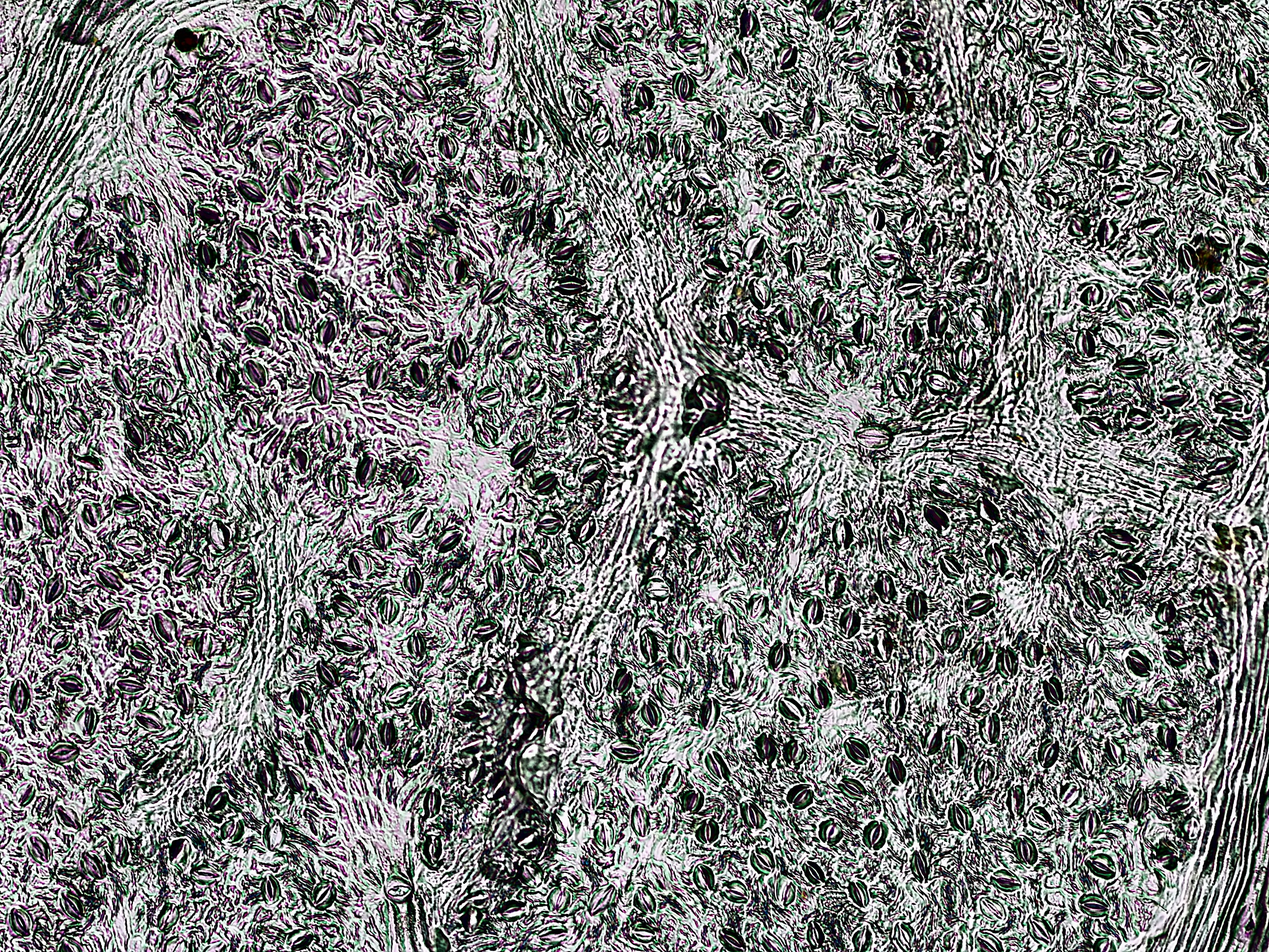stomata: (1096, 513, 1149, 555), (910, 122, 952, 169), (850, 413, 896, 451), (52, 884, 94, 925), (973, 491, 1014, 529), (825, 512, 861, 551), (1153, 691, 1201, 720), (762, 192, 804, 225), (592, 17, 631, 52), (697, 247, 730, 288), (697, 746, 738, 779), (45, 670, 94, 697), (796, 847, 829, 887), (1110, 351, 1155, 380), (866, 151, 910, 180), (115, 185, 146, 226), (573, 451, 610, 485), (948, 340, 980, 379), (1077, 847, 1118, 877), (0, 678, 34, 714), (154, 893, 186, 931), (1076, 574, 1108, 612), (1051, 120, 1086, 154), (921, 503, 957, 536), (1125, 0, 1165, 29), (758, 103, 790, 139), (418, 833, 450, 869), (985, 84, 1013, 125), (233, 222, 264, 259), (1077, 409, 1114, 440), (326, 628, 370, 654), (637, 622, 663, 666), (401, 235, 440, 264), (693, 696, 726, 730), (657, 0, 689, 35), (1122, 782, 1150, 822), (952, 0, 995, 26), (35, 569, 71, 600), (718, 874, 754, 905), (282, 222, 312, 259), (891, 15, 928, 45), (865, 241, 906, 268), (885, 79, 914, 117), (480, 274, 512, 308), (939, 549, 971, 583), (734, 2, 765, 37), (1102, 734, 1133, 769), (109, 490, 149, 517), (185, 622, 215, 658), (1110, 559, 1155, 583), (604, 736, 644, 763), (966, 930, 1015, 952), (287, 922, 324, 951), (840, 731, 869, 768), (908, 847, 937, 884), (294, 267, 322, 305), (998, 24, 1026, 62), (511, 827, 549, 855), (637, 571, 675, 599), (148, 609, 180, 642), (760, 639, 793, 671), (991, 861, 1023, 894), (1195, 163, 1226, 197), (98, 559, 129, 593), (1144, 841, 1178, 872), (313, 369, 340, 408), (257, 866, 284, 905), (548, 397, 583, 427), (48, 738, 83, 768), (872, 628, 902, 663), (92, 784, 128, 813), (78, 847, 107, 883), (490, 768, 519, 804), (105, 673, 145, 699), (1035, 681, 1075, 707), (14, 314, 42, 351), (1037, 543, 1065, 580), (426, 43, 473, 65), (41, 504, 68, 542), (831, 662, 858, 700), (1199, 451, 1240, 476), (1138, 274, 1172, 304), (317, 306, 339, 352), (52, 355, 88, 383), (78, 699, 102, 741), (173, 684, 201, 720), (1033, 68, 1070, 95), (133, 707, 170, 734), (227, 284, 259, 315), (237, 355, 269, 386), (571, 511, 603, 542), (1068, 326, 1099, 358), (314, 656, 346, 687), (404, 628, 435, 660), (803, 919, 834, 951), (893, 919, 925, 950), (826, 341, 856, 374), (821, 561, 851, 594), (1083, 635, 1113, 668), (1071, 888, 1116, 910), (127, 639, 165, 665), (397, 70, 426, 104), (1014, 103, 1043, 137), (892, 276, 933, 300), (757, 153, 792, 181), (985, 541, 1013, 576), (1034, 34, 1070, 61), (1149, 112, 1185, 139), (365, 109, 402, 135), (645, 691, 671, 728), (715, 923, 752, 949), (380, 674, 410, 706), (866, 196, 888, 239), (16, 381, 43, 416), (1242, 150, 1269, 185), (1122, 407, 1157, 434), (784, 736, 811, 771), (186, 203, 227, 226), (1093, 139, 1123, 170), (925, 364, 956, 394), (1011, 833, 1041, 864), (454, 900, 483, 932), (974, 895, 1006, 924), (107, 365, 135, 398), (855, 306, 877, 348), (174, 553, 207, 581), (951, 801, 979, 834), (543, 317, 566, 357), (580, 662, 603, 702), (1212, 386, 1250, 410), (1226, 315, 1261, 341), (897, 203, 923, 238), (1103, 183, 1144, 205), (114, 250, 144, 280), (165, 103, 201, 128), (968, 259, 998, 289), (286, 763, 311, 799), (284, 605, 314, 635), (1199, 278, 1228, 309), (812, 292, 835, 331), (364, 357, 392, 389), (1189, 48, 1217, 80), (1073, 375, 1105, 403), (1127, 645, 1159, 673), (777, 783, 809, 811), (716, 611, 740, 648), (744, 233, 770, 267), (1158, 382, 1192, 408), (207, 518, 233, 552), (291, 685, 316, 720), (725, 533, 750, 568), (769, 695, 804, 720), (240, 320, 270, 349), (1025, 915, 1054, 945), (169, 418, 197, 449), (890, 370, 921, 398), (2, 502, 26, 538), (494, 896, 526, 923), (1160, 725, 1192, 752), (831, 251, 852, 292), (673, 71, 699, 104), (151, 49, 177, 82), (452, 698, 489, 721), (928, 476, 962, 501), (496, 332, 525, 361), (395, 461, 424, 490), (405, 508, 434, 537), (548, 238, 583, 262), (457, 168, 487, 196), (707, 109, 731, 144), (204, 782, 234, 810), (889, 500, 910, 540), (740, 798, 764, 833), (1174, 240, 1201, 271), (1001, 639, 1023, 677), (359, 318, 391, 344), (547, 883, 573, 915), (408, 353, 431, 389), (1, 573, 24, 609), (640, 131, 665, 164), (851, 108, 885, 132), (1088, 69, 1122, 93), (1217, 111, 1251, 135), (73, 453, 110, 475), (668, 181, 690, 218), (717, 448, 739, 485), (765, 333, 793, 362), (472, 421, 500, 450), (851, 922, 880, 950), (671, 131, 698, 161), (435, 528, 465, 555), (696, 820, 723, 850), (750, 847, 780, 874), (630, 83, 661, 109), (1109, 293, 1140, 319), (435, 566, 461, 597), (522, 545, 548, 576), (26, 830, 52, 861), (419, 784, 442, 819), (741, 477, 776, 500), (780, 244, 805, 276), (263, 816, 285, 852), (313, 877, 337, 910), (378, 711, 396, 755), (875, 569, 897, 605), (751, 729, 775, 762), (535, 506, 563, 534), (70, 225, 99, 252), (1241, 239, 1268, 268), (97, 602, 124, 631), (270, 29, 304, 52), (497, 164, 520, 198), (686, 165, 720, 188), (856, 818, 890, 841), (543, 204, 569, 234), (1097, 217, 1123, 247), (694, 205, 724, 231), (1182, 817, 1212, 843), (1105, 102, 1142, 123), (435, 127, 460, 158), (844, 876, 869, 907), (203, 24, 228, 55), (44, 629, 79, 651), (885, 688, 909, 720), (326, 466, 349, 499), (485, 563, 508, 596), (393, 265, 414, 301), (1143, 165, 1172, 191), (310, 0, 340, 25), (8, 907, 33, 937), (726, 47, 748, 81), (351, 709, 368, 753), (192, 240, 216, 271), (572, 310, 603, 334), (405, 739, 429, 770), (111, 833, 130, 872), (447, 334, 468, 369), (1029, 629, 1050, 664), (1065, 210, 1092, 237), (773, 45, 799, 73), (509, 438, 535, 466), (634, 887, 662, 913), (463, 668, 491, 694), (610, 667, 638, 693), (816, 817, 842, 845), (749, 273, 771, 306), (628, 802, 650, 835), (692, 857, 714, 890), (1008, 781, 1030, 814), (65, 195, 94, 220), (1172, 417, 1201, 442), (382, 877, 411, 902), (1127, 32, 1165, 51), (512, 208, 536, 238), (587, 123, 617, 147), (717, 314, 741, 344), (691, 541, 711, 577), (678, 783, 702, 813), (339, 75, 360, 109), (1149, 326, 1183, 347), (116, 534, 150, 555), (254, 760, 275, 794), (1078, 809, 1101, 840), (577, 75, 592, 122), (217, 365, 239, 397), (593, 823, 615, 855), (804, 594, 826, 626), (974, 759, 996, 791), (812, 181, 849, 200), (360, 20, 387, 46), (930, 302, 950, 337), (309, 725, 329, 760), (517, 858, 542, 886), (1079, 684, 1099, 719), (1038, 737, 1062, 766), (473, 384, 506, 405), (966, 594, 999, 615), (839, 50, 869, 73), (60, 803, 83, 833), (1164, 642, 1194, 665), (1167, 789, 1197, 812), (779, 298, 798, 334), (456, 3, 487, 25), (1113, 38, 1135, 69), (902, 322, 924, 353), (467, 618, 501, 638), (809, 680, 829, 714), (1057, 781, 1083, 807), (221, 120, 248, 145), (495, 122, 520, 149), (338, 593, 365, 618), (238, 183, 270, 204), (235, 403, 259, 431), (1235, 274, 1267, 295), (524, 373, 548, 401), (532, 470, 560, 494), (356, 453, 377, 485), (220, 816, 241, 848), (840, 607, 864, 635), (942, 621, 963, 653), (1028, 800, 1052, 828), (918, 724, 941, 753), (1224, 418, 1254, 440), (324, 418, 344, 451), (958, 685, 988, 707), (418, 13, 444, 38), (682, 33, 707, 59), (1208, 225, 1234, 250), (6, 783, 33, 807), (909, 585, 928, 619), (971, 645, 990, 679), (404, 566, 424, 598), (543, 806, 564, 836), (883, 755, 904, 785), (416, 698, 435, 731), (985, 710, 1004, 743), (1080, 283, 1106, 307), (110, 288, 133, 315), (434, 211, 461, 234), (160, 514, 182, 542), (748, 594, 769, 623), (928, 221, 944, 259), (292, 442, 311, 474), (465, 756, 484, 788), (945, 732, 964, 764), (1016, 0, 1046, 20), (1076, 739, 1096, 769), (121, 421, 144, 447), (558, 272, 584, 295), (1136, 76, 1163, 98), (672, 637, 690, 670), (259, 137, 288, 157), (74, 272, 96, 298), (663, 763, 685, 789), (1198, 588, 1217, 618), (630, 922, 657, 943), (403, 161, 423, 189), (1036, 186, 1058, 211), (290, 97, 311, 123), (447, 104, 483, 119), (1137, 219, 1167, 237), (987, 156, 1005, 186), (834, 12, 862, 31), (1155, 597, 1177, 621), (1123, 695, 1140, 726), (391, 0, 416, 21), (593, 885, 614, 910), (83, 501, 101, 530), (1202, 639, 1220, 668), (578, 785, 598, 811), (968, 306, 987, 333), (1239, 62, 1257, 90), (153, 378, 178, 398), (256, 78, 274, 105), (236, 585, 259, 606), (452, 257, 468, 287), (648, 536, 672, 556), (841, 779, 865, 799), (804, 0, 832, 17), (69, 404, 87, 430), (374, 521, 392, 547), (79, 313, 110, 328), (353, 549, 369, 578), (507, 675, 530, 695), (317, 158, 341, 177), (197, 867, 222, 884), (381, 596, 403, 613), (280, 172, 301, 188), (784, 883, 795, 906)
